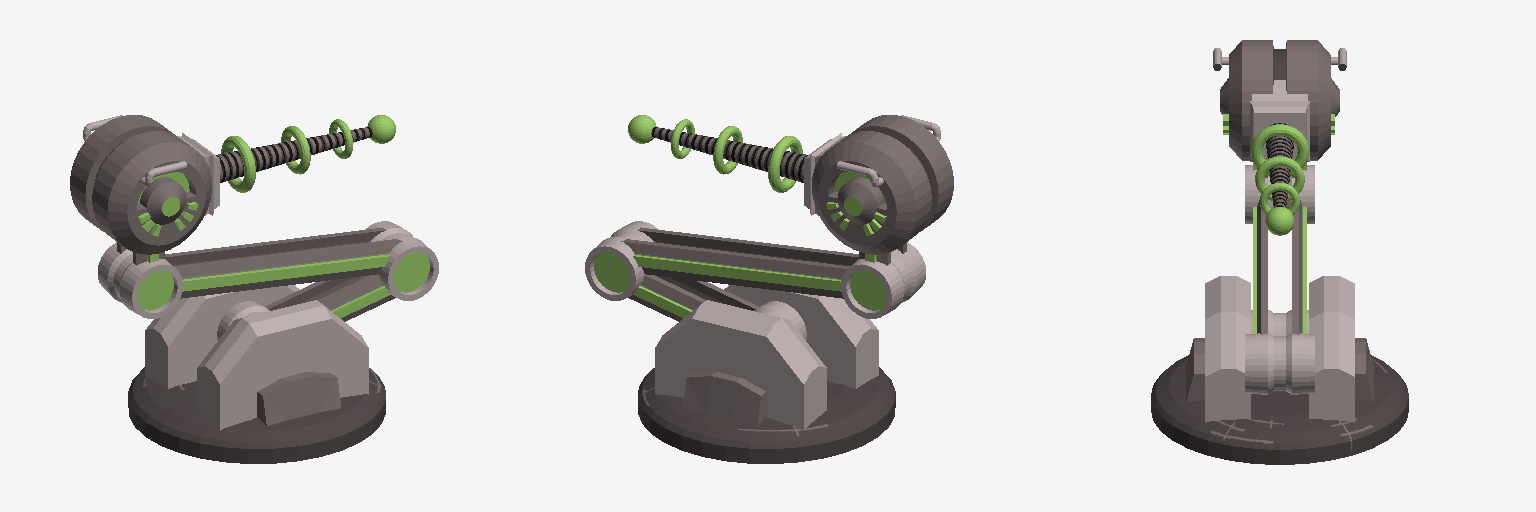
3 renders of one model, left to right at view 1: azimuth 30°, elevation 25°; view 2: azimuth 150°, elevation 25°; view 3: azimuth 270°, elevation 25°, orthographic.
Visible parts, largest first — view 1: Cylinder.005_Cylinder.008; view 2: Cylinder.005_Cylinder.008; view 3: Cylinder.005_Cylinder.008.
Part boxes in pixels (bbox=[...]): Cylinder.005_Cylinder.008: bbox=[70, 115, 438, 463]; Cylinder.005_Cylinder.008: bbox=[585, 115, 953, 463]; Cylinder.005_Cylinder.008: bbox=[1151, 40, 1408, 464].
Bounding box in the file's own units: 6.81 × 6 × 4.55.
1 materials, 1 textured.